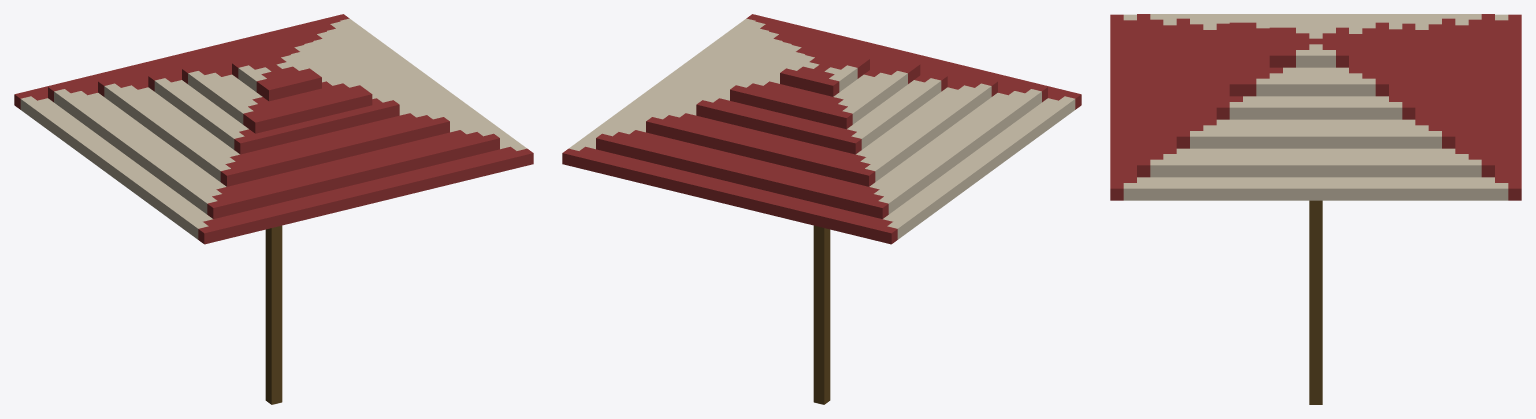
The model's file is Background_C_deco_01.FBX.
The picture shows the model from 3 angles, left to right: view 1: azimuth 30°, elevation 25°; view 2: azimuth 150°, elevation 25°; view 3: azimuth 270°, elevation 25°; orthographic projection. The views are drawn at different scales.
Parts seen in each view (by area): view 1: Background_C-14; view 2: Background_C-14; view 3: Background_C-14.
Part boxes in pixels (x1,y1,x2,y2): Background_C-14: (14,14,533,404); Background_C-14: (562,14,1081,404); Background_C-14: (1110,14,1521,404).
Bounding box in the file's own units: 3.1 × 3 × 3.1.
Materials: 1 (1 with a texture image).
